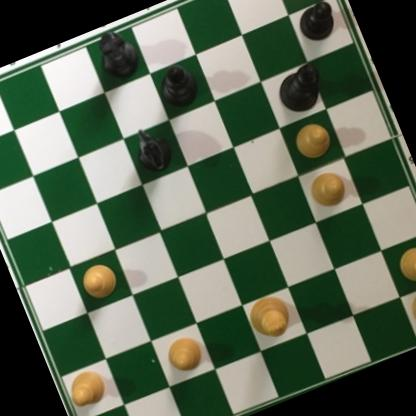black-bishop: (150, 58, 205, 113)
black-king: (269, 58, 333, 121)
black-knight: (125, 118, 180, 182)
black-pawn: (291, 0, 342, 47)
black-rook: (87, 21, 145, 83)
white-king: (242, 290, 297, 345)
white-pawn: (73, 255, 125, 307), (288, 114, 339, 165), (62, 361, 112, 411), (161, 329, 209, 378), (304, 165, 353, 213), (390, 240, 416, 291)
white-rook: (404, 278, 416, 340)
